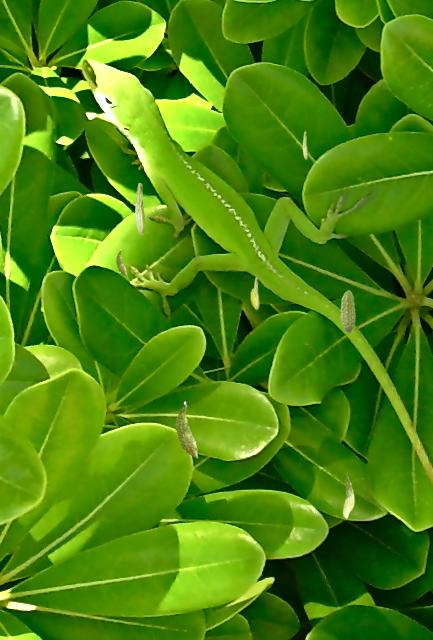ampalaya: (174, 401, 198, 458), (339, 289, 356, 334), (134, 182, 145, 235), (342, 471, 354, 519), (115, 248, 127, 276), (253, 276, 259, 309), (302, 131, 308, 160), (250, 286, 257, 310)
